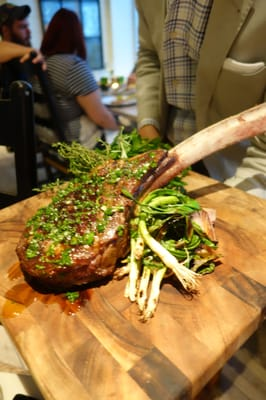pasta: (0, 79, 39, 203)
sandwich: (16, 143, 161, 293)
